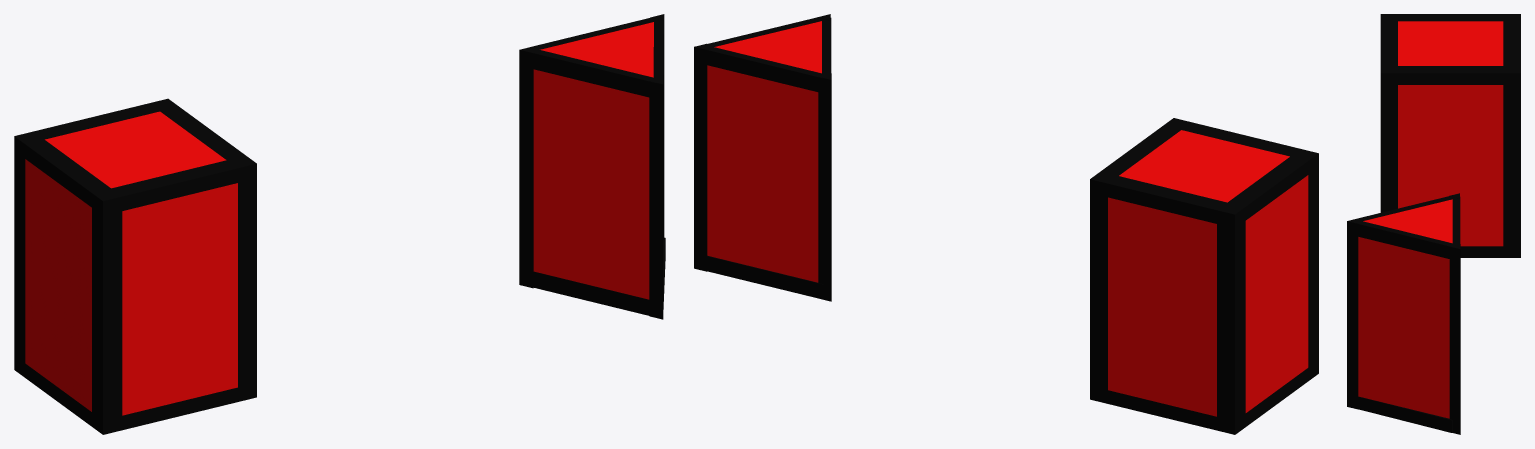
Rendered from Prizm_Red1.glb.
3 views of the same model, side by side, from view 1: azimuth 30°, elevation 25°; view 2: azimuth 150°, elevation 25°; view 3: azimuth 270°, elevation 25° (orthographic). The views are drawn at different scales.
Parts seen in each view (by area): view 1: Cube, 20255_Triangular_Prism_V1.001, 20255_Triangular_Prism_V1.003, 20255_Triangular_Prism_V1.002, Cube.003, Cube.004, Cube.005, Cube.002; view 2: Cube, 20255_Triangular_Prism_V1.001, 20255_Triangular_Prism_V1.004, 20255_Triangular_Prism_V1.003, Cube.005, Cube.006, Cube.002; view 3: Cube, 20255_Triangular_Prism_V1.001, 20255_Triangular_Prism_V1.004, 20255_Triangular_Prism_V1.002, Cube.002, Cube.001, Cube.003, Cube.005.
Part boxes in pixels (x1,y1,x2,y2): Cube: [14, 98, 256, 434]; 20255_Triangular_Prism_V1.001: [533, 22, 653, 299]; 20255_Triangular_Prism_V1.003: [519, 46, 533, 288]; 20255_Triangular_Prism_V1.002: [649, 77, 663, 319]; Cube.003: [533, 48, 657, 98]; Cube.004: [533, 271, 649, 315]; Cube.005: [533, 17, 658, 49]; Cube.002: [653, 18, 663, 90]; Cube: [1090, 118, 1318, 434]; 20255_Triangular_Prism_V1.001: [707, 21, 821, 282]; 20255_Triangular_Prism_V1.004: [694, 43, 707, 271]; 20255_Triangular_Prism_V1.003: [818, 73, 831, 301]; Cube.005: [707, 46, 825, 93]; Cube.006: [707, 255, 823, 299]; Cube.002: [707, 17, 825, 48]; Cube: [1380, 14, 1520, 257]; 20255_Triangular_Prism_V1.001: [1358, 199, 1452, 418]; 20255_Triangular_Prism_V1.004: [1449, 244, 1460, 434]; 20255_Triangular_Prism_V1.002: [1347, 218, 1358, 409]; Cube.002: [1352, 220, 1456, 258]; Cube.001: [1357, 396, 1452, 432]; Cube.003: [1358, 196, 1456, 221]; Cube.005: [1452, 197, 1460, 244].
Size of the model in its own units: 7.95 by 2.92 by 2.48.
